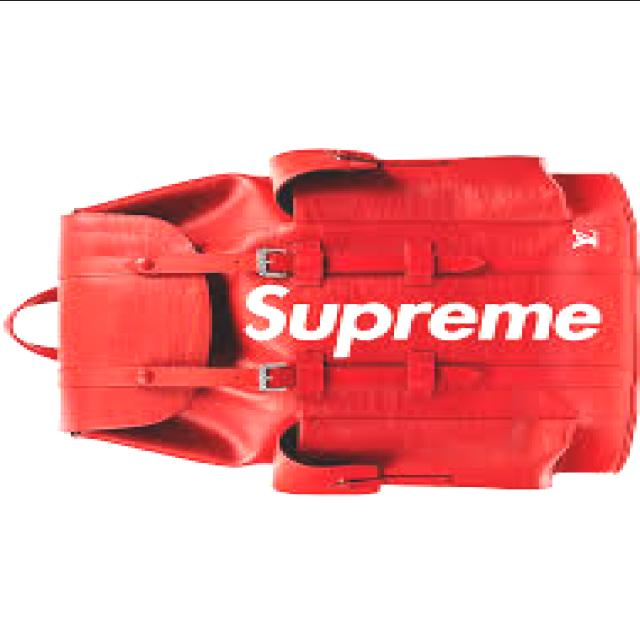backpack: (2, 148, 638, 500)
